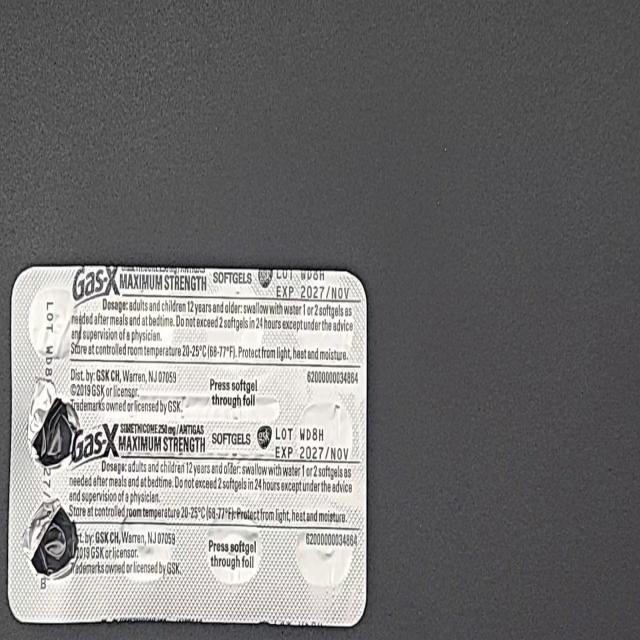defect: (26, 375, 84, 474), (20, 495, 81, 583)
